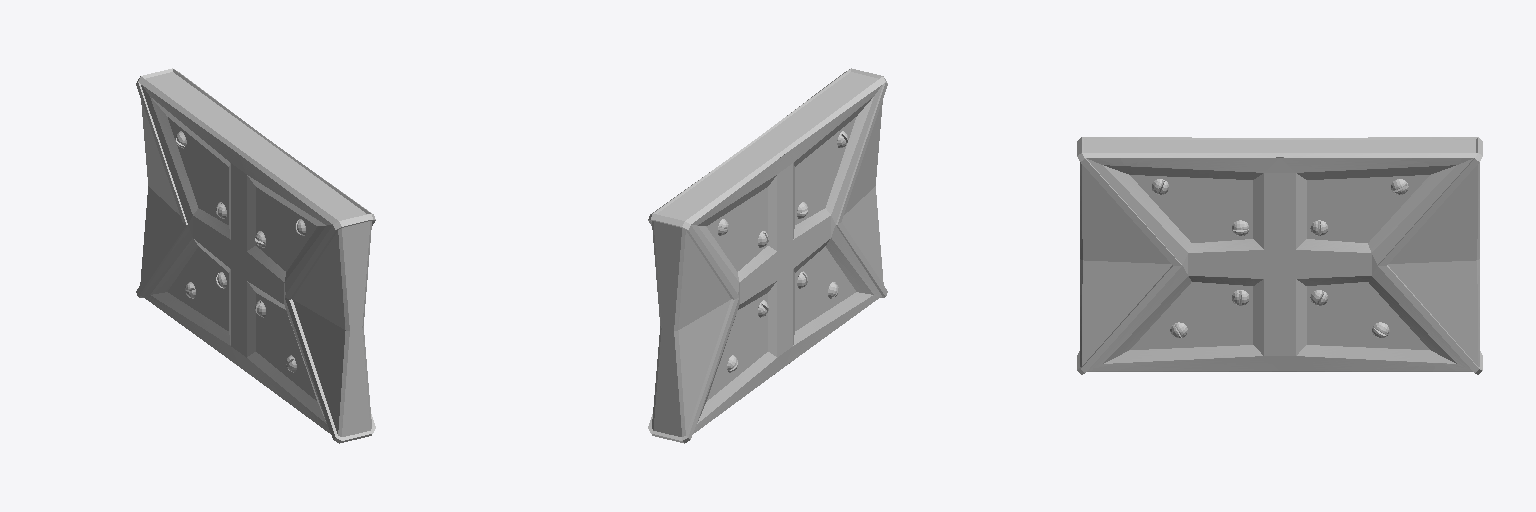
File: Wall2.OBJ
3 views of the same model, side by side, from view 1: azimuth 30°, elevation 25°; view 2: azimuth 150°, elevation 25°; view 3: azimuth 270°, elevation 25° (orthographic).
Visible parts, largest first — view 1: Group32885, Group65241, Group32815, Group32889, Group38414, Group746, Group65244, Group65247, Group32823, Group5964; view 2: Group32885, Group65241, Group32815, Group32889, Group38414, Group746, Group65244, Group65247, Group32823, Group5964; view 3: Group32885, Group65241, Group32815, Group32889, Group65244, Group38414, Group5964, Group65247, Group32823.
Part boxes in pixels (left/top/right/bottom): Group32885: left=141, top=85, right=332, bottom=433; Group65241: left=168, top=117, right=317, bottom=400; Group32815: left=140, top=100, right=345, bottom=433; Group32889: left=150, top=97, right=326, bottom=423; Group38414: left=145, top=72, right=366, bottom=220; Group746: left=342, top=221, right=370, bottom=436; Group65244: left=136, top=69, right=375, bottom=443; Group65247: left=138, top=68, right=375, bottom=440; Group32823: left=234, top=221, right=371, bottom=436; Group5964: left=176, top=131, right=305, bottom=372; Group32885: left=691, top=85, right=882, bottom=433; Group65241: left=706, top=117, right=855, bottom=400; Group32815: left=678, top=100, right=883, bottom=433; Group32889: left=697, top=97, right=873, bottom=423; Group38414: left=657, top=72, right=878, bottom=220; Group746: left=653, top=221, right=681, bottom=436; Group65244: left=648, top=69, right=887, bottom=443; Group65247: left=648, top=68, right=885, bottom=440; Group32823: left=652, top=221, right=789, bottom=436; Group5964: left=718, top=131, right=847, bottom=372; Group32885: left=1086, top=158, right=1473, bottom=370; Group65241: left=1130, top=175, right=1429, bottom=349; Group32815: left=1082, top=165, right=1477, bottom=365; Group32889: left=1103, top=165, right=1456, bottom=363; Group65244: left=1077, top=137, right=1482, bottom=374; Group38414: left=1084, top=140, right=1475, bottom=152; Group5964: left=1152, top=179, right=1408, bottom=337; Group65247: left=1077, top=137, right=1482, bottom=370; Group32823: left=1080, top=162, right=1479, bottom=371.
Size of the model in its own units: 0.3057 by 1.59 by 2.62.